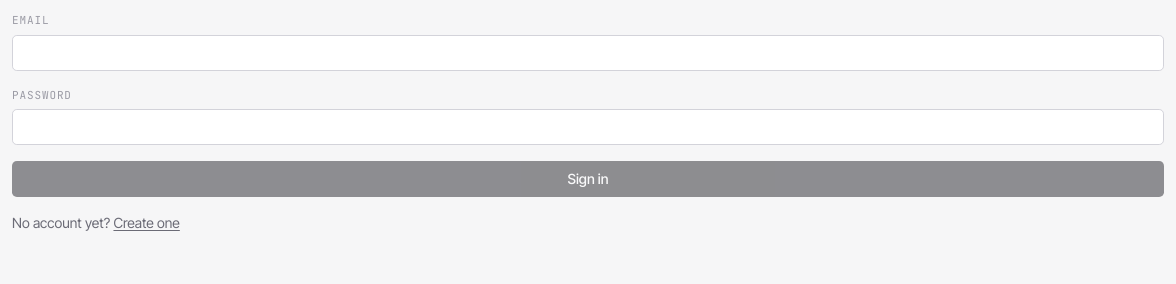
Test case: CredentialsForm — signing in › stays put and explains when the credentials are wrong
The width and height of the screenshot is (1176, 284).
Type "sam@example.com" into the field labelled "Email" at (588, 52), box [12,34,1164,70]
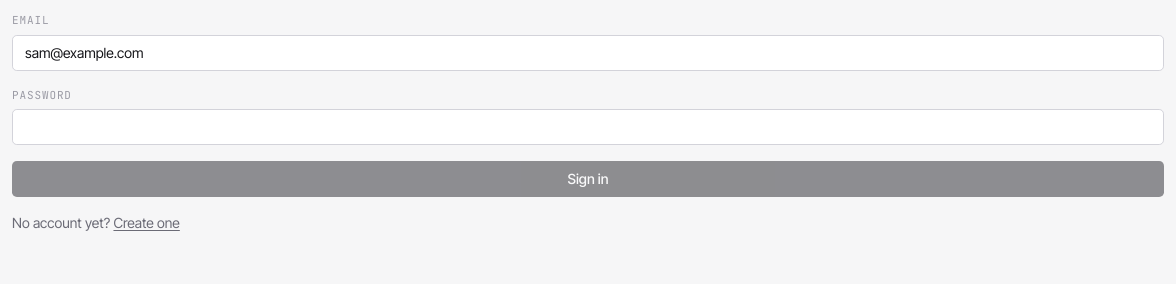
Type "correct horse battery" into the password field labelled "Password" at (588, 127), box [12,109,1164,145]
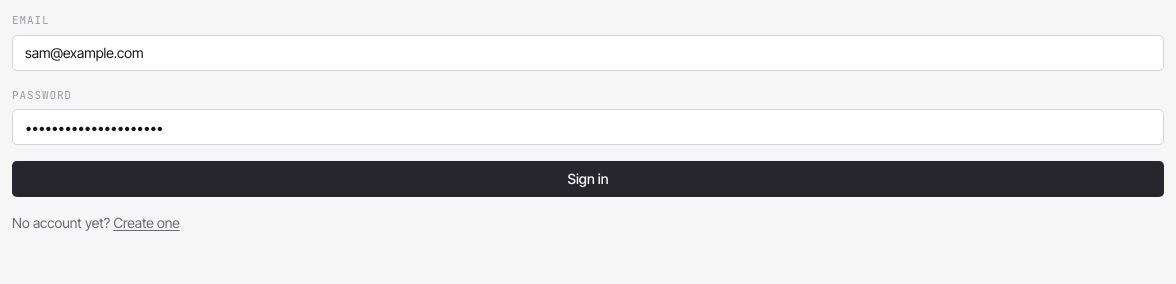
Click the button "Sign in" at (588, 179), box [12,161,1164,197]
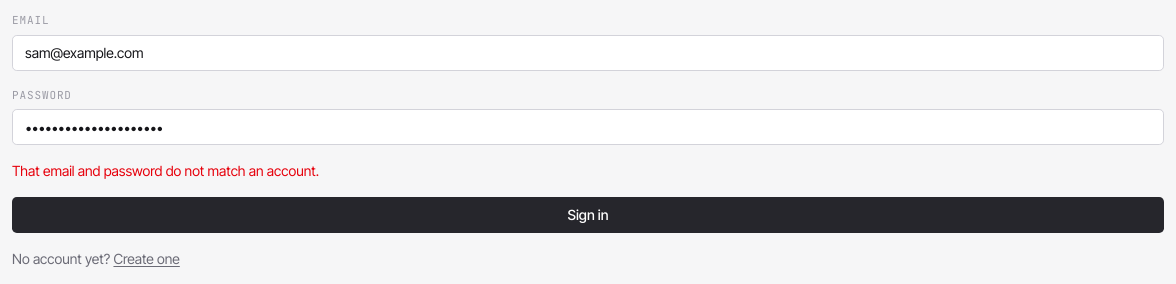
Now the message shows "do not match an account", box [12,162,319,179]
